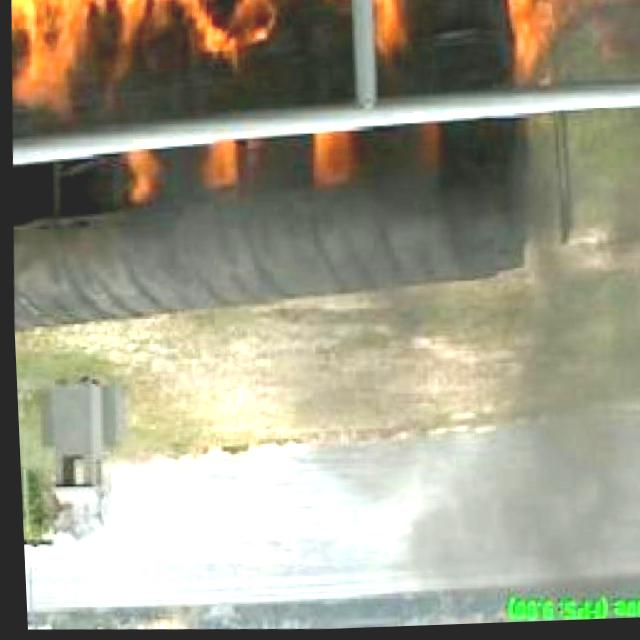Fire: (7, 0, 288, 116), (289, 122, 448, 201), (503, 0, 574, 101), (112, 133, 240, 188), (348, 0, 416, 95)
Smoke: (290, 225, 640, 613)
